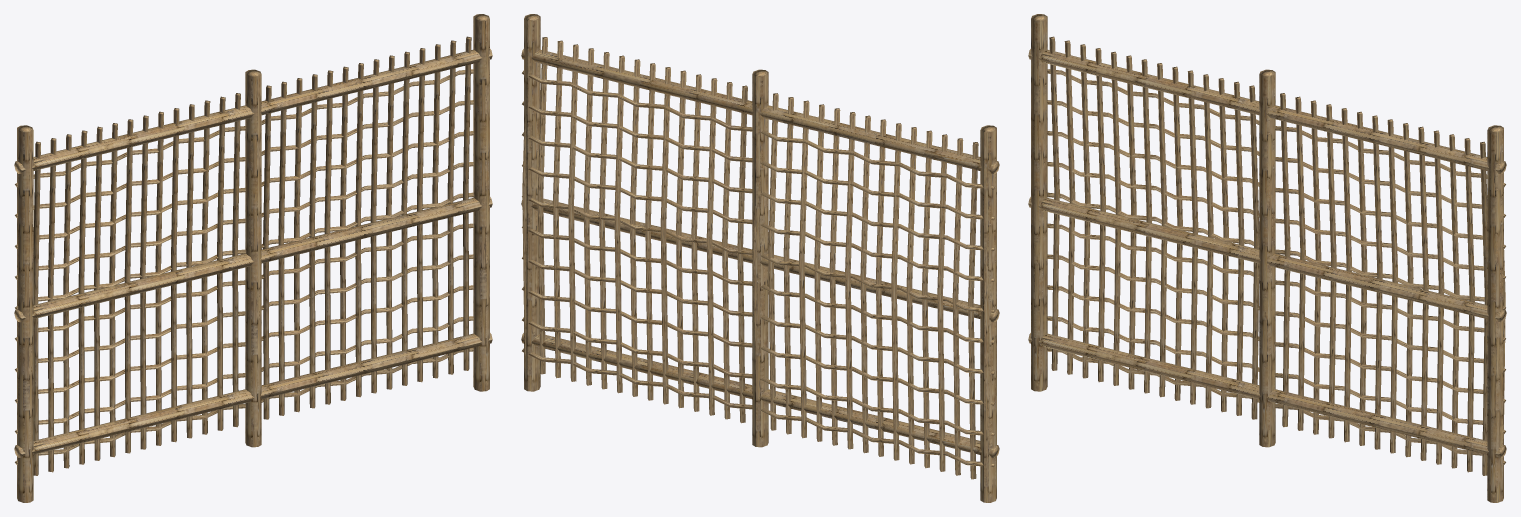
The model's file is prop_fence.glb.
3 renders of one model, left to right at view 1: azimuth 30°, elevation 25°; view 2: azimuth 150°, elevation 25°; view 3: azimuth 330°, elevation 25°, orthographic.
Parts seen in each view (by area): view 1: prop_fence; view 2: prop_fence; view 3: prop_fence.
Part boxes in pixels (x1,y1,x2,y2): prop_fence: (14, 14, 492, 502); prop_fence: (521, 14, 999, 502); prop_fence: (1028, 14, 1506, 502).
Bounding box in the file's own units: 2 × 1.5 × 0.09.
Materials: 1 (1 with a texture image).
